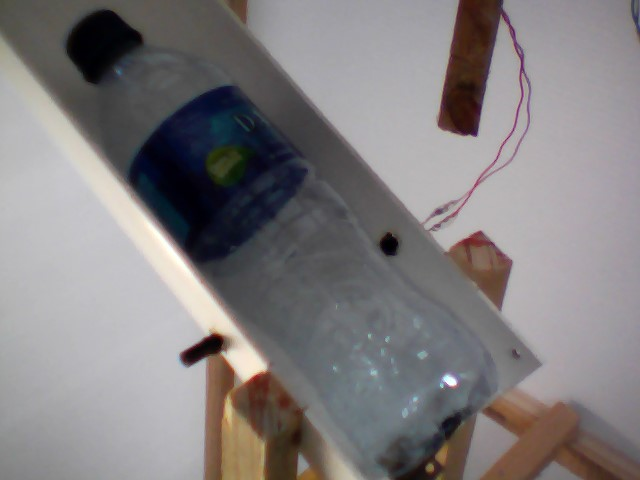plastico: (63, 4, 496, 480)
